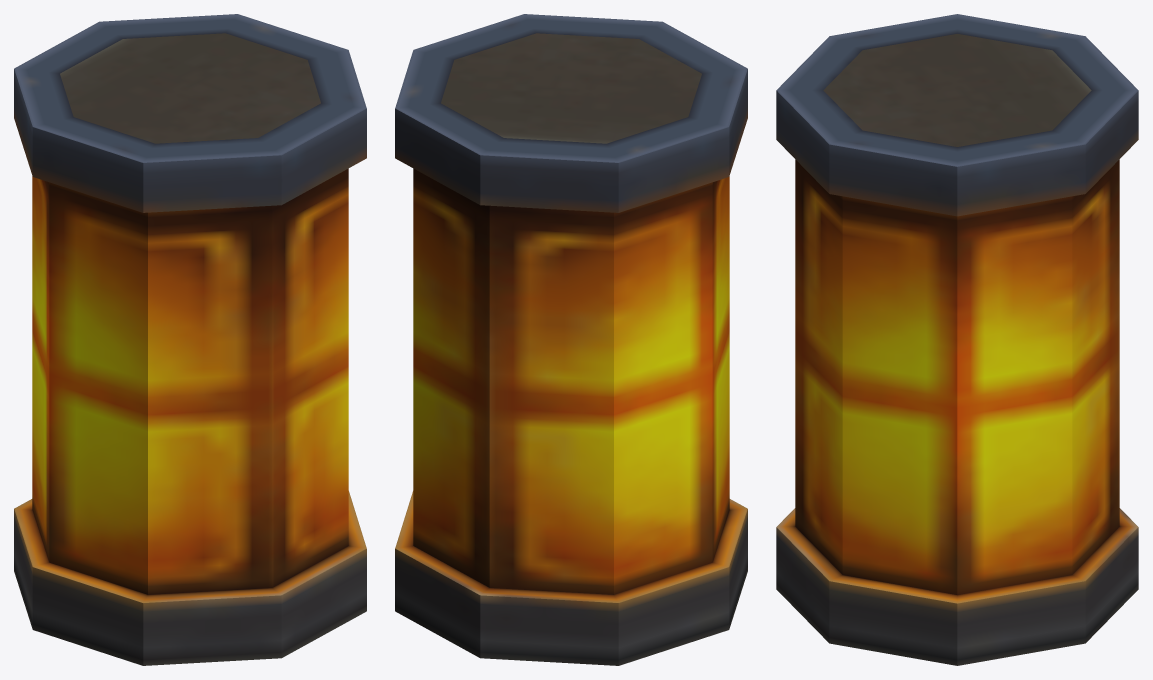
Rendered from sn_jixie_deng_001.FBX.
3 views of the same model, side by side, from view 1: azimuth 30°, elevation 25°; view 2: azimuth 150°, elevation 25°; view 3: azimuth 270°, elevation 25° (orthographic).
Visible parts, largest first — view 1: sn_jixie_deng_001; view 2: sn_jixie_deng_001; view 3: sn_jixie_deng_001.
Boxes of the visible parts, x1,y1,x2,y2 form: sn_jixie_deng_001: [14, 14, 366, 665]; sn_jixie_deng_001: [395, 14, 747, 665]; sn_jixie_deng_001: [776, 14, 1138, 665].
Bounding box in the file's own units: 2.11 × 2.11 × 3.2.
